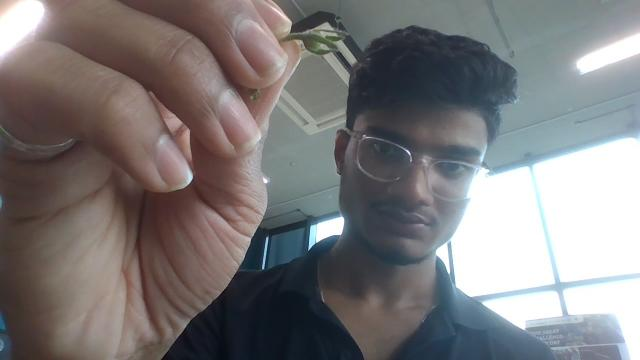Fruit Bud: (285, 30, 348, 55)
